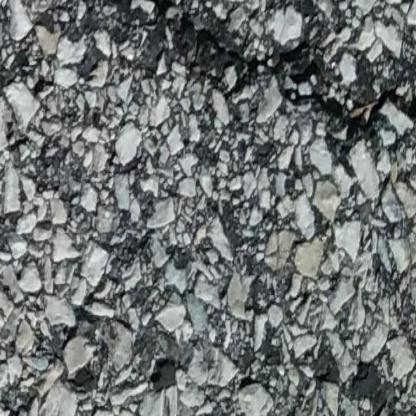Cracks: (57, 0, 416, 128)
